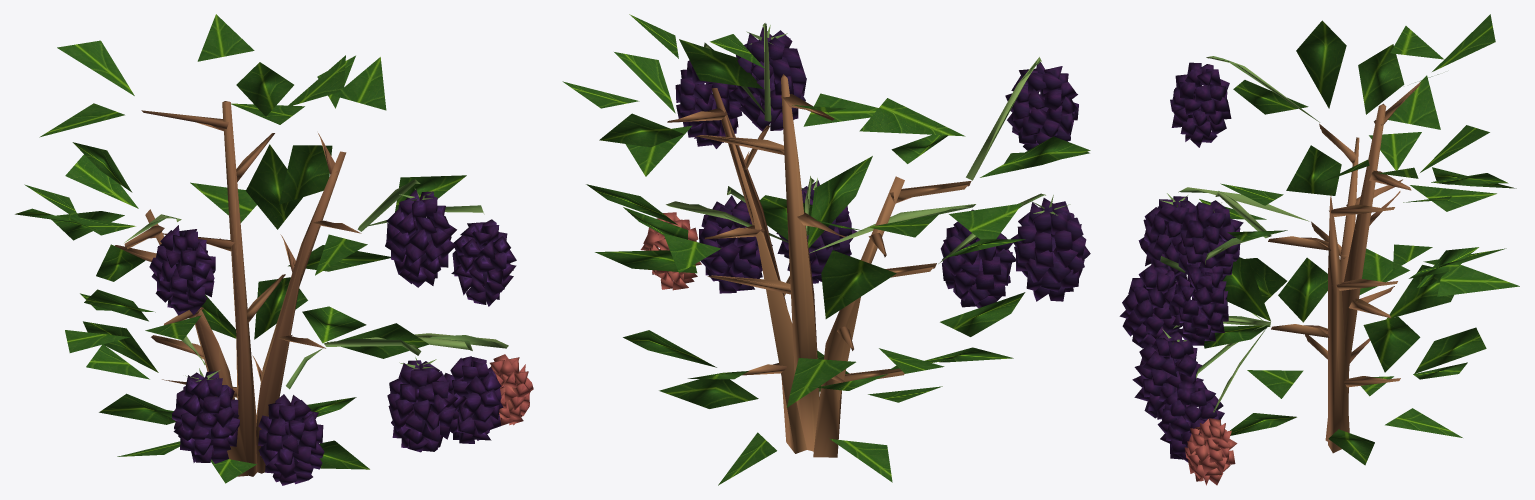
Rendered from NP_Blackberry_Ready_LOD1.fbx.
3 renders of one model, left to right at view 1: azimuth 30°, elevation 25°; view 2: azimuth 150°, elevation 25°; view 3: azimuth 270°, elevation 25°, orthographic. The views are drawn at different scales.
Parts seen in each view (by area): view 1: NP_Blackberry_Ready; view 2: NP_Blackberry_Ready; view 3: NP_Blackberry_Ready.
Part boxes in pixels (<box>): NP_Blackberry_Ready: <box>15,14,533,485</box>; NP_Blackberry_Ready: <box>562,14,1090,485</box>; NP_Blackberry_Ready: <box>1119,14,1519,485</box>.
Bounding box in the file's own units: 110 × 93.29 × 87.66.
